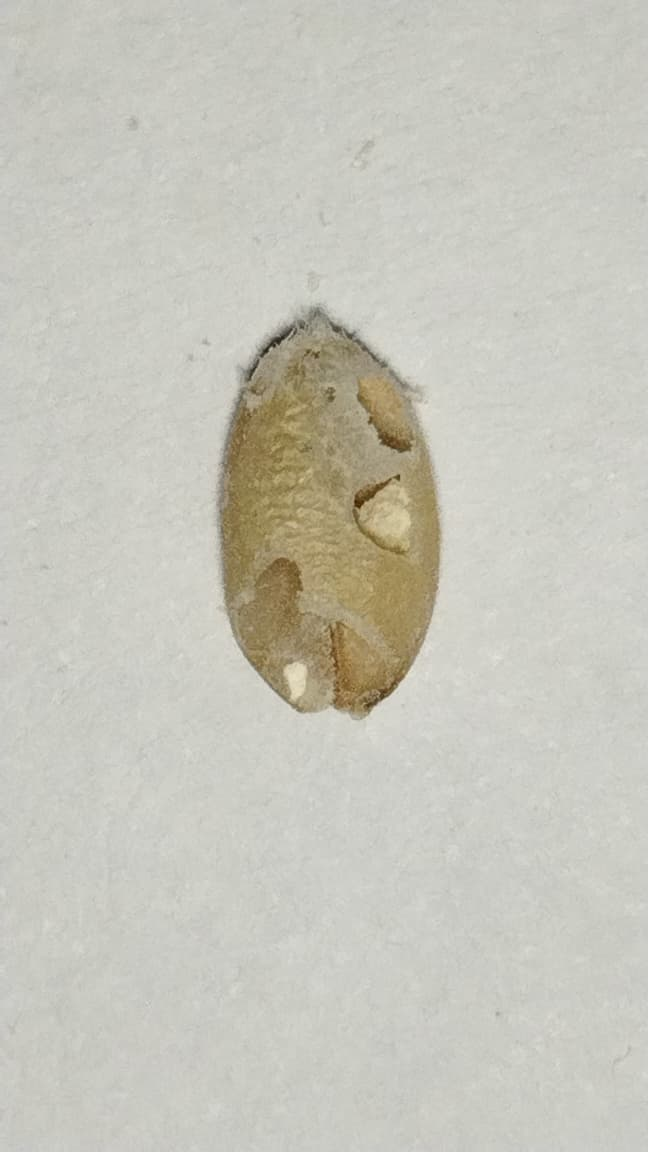damage: (219, 303, 443, 716)
insectdamage: (221, 557, 406, 716), (345, 353, 445, 562)
molddamage: (237, 302, 363, 396)
